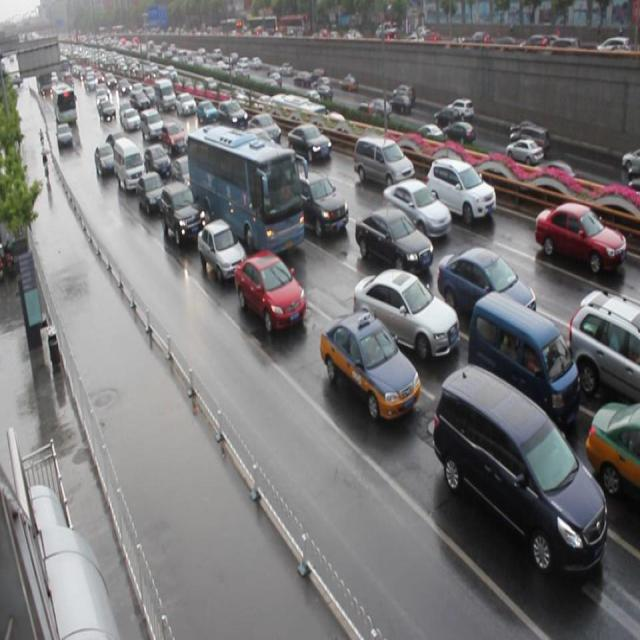car: (319, 312, 420, 418), (353, 269, 459, 359), (567, 291, 640, 404), (437, 248, 537, 326), (534, 202, 625, 273), (233, 251, 306, 331), (584, 402, 640, 506), (355, 208, 433, 274), (424, 156, 495, 222), (382, 178, 451, 240), (295, 171, 348, 237), (198, 219, 248, 278), (163, 181, 204, 242), (287, 120, 330, 163), (137, 171, 166, 213), (247, 110, 280, 144), (171, 157, 197, 193), (146, 144, 172, 180)
truck: (432, 365, 607, 572), (466, 290, 580, 418), (353, 134, 414, 190)
van: (190, 124, 305, 256)
